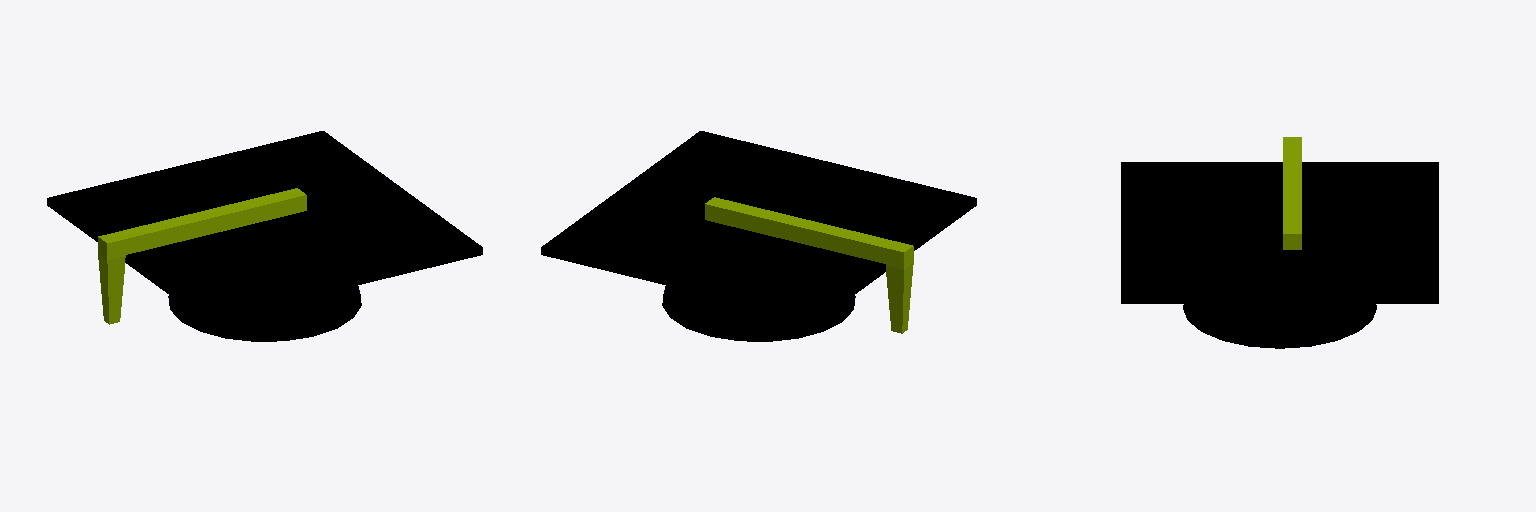
File: cap.obj
The picture shows the model from 3 angles: view 1: azimuth 30°, elevation 25°; view 2: azimuth 150°, elevation 25°; view 3: azimuth 270°, elevation 25°; orthographic projection.
Visible parts, largest first — view 1: grad_hat, Cube.001; view 2: grad_hat, Cube.001; view 3: grad_hat, Cube.001.
Part boxes in pixels (x1,y1,x2,y2): grad_hat: (47, 131, 482, 341); Cube.001: (98, 188, 306, 324); grad_hat: (541, 131, 976, 341); Cube.001: (705, 197, 913, 333); grad_hat: (1121, 162, 1438, 348); Cube.001: (1283, 137, 1301, 249).
Size of the model in its own units: 1.58 by 0.4867 by 1.49.